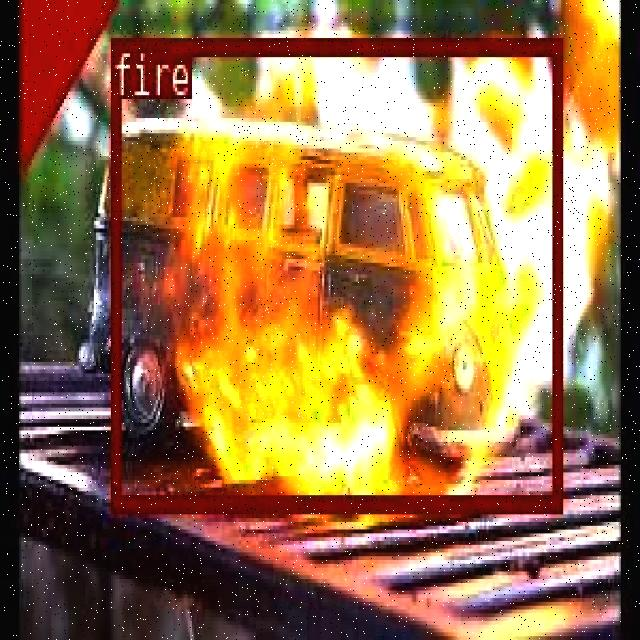fire: (110, 35, 560, 508)
